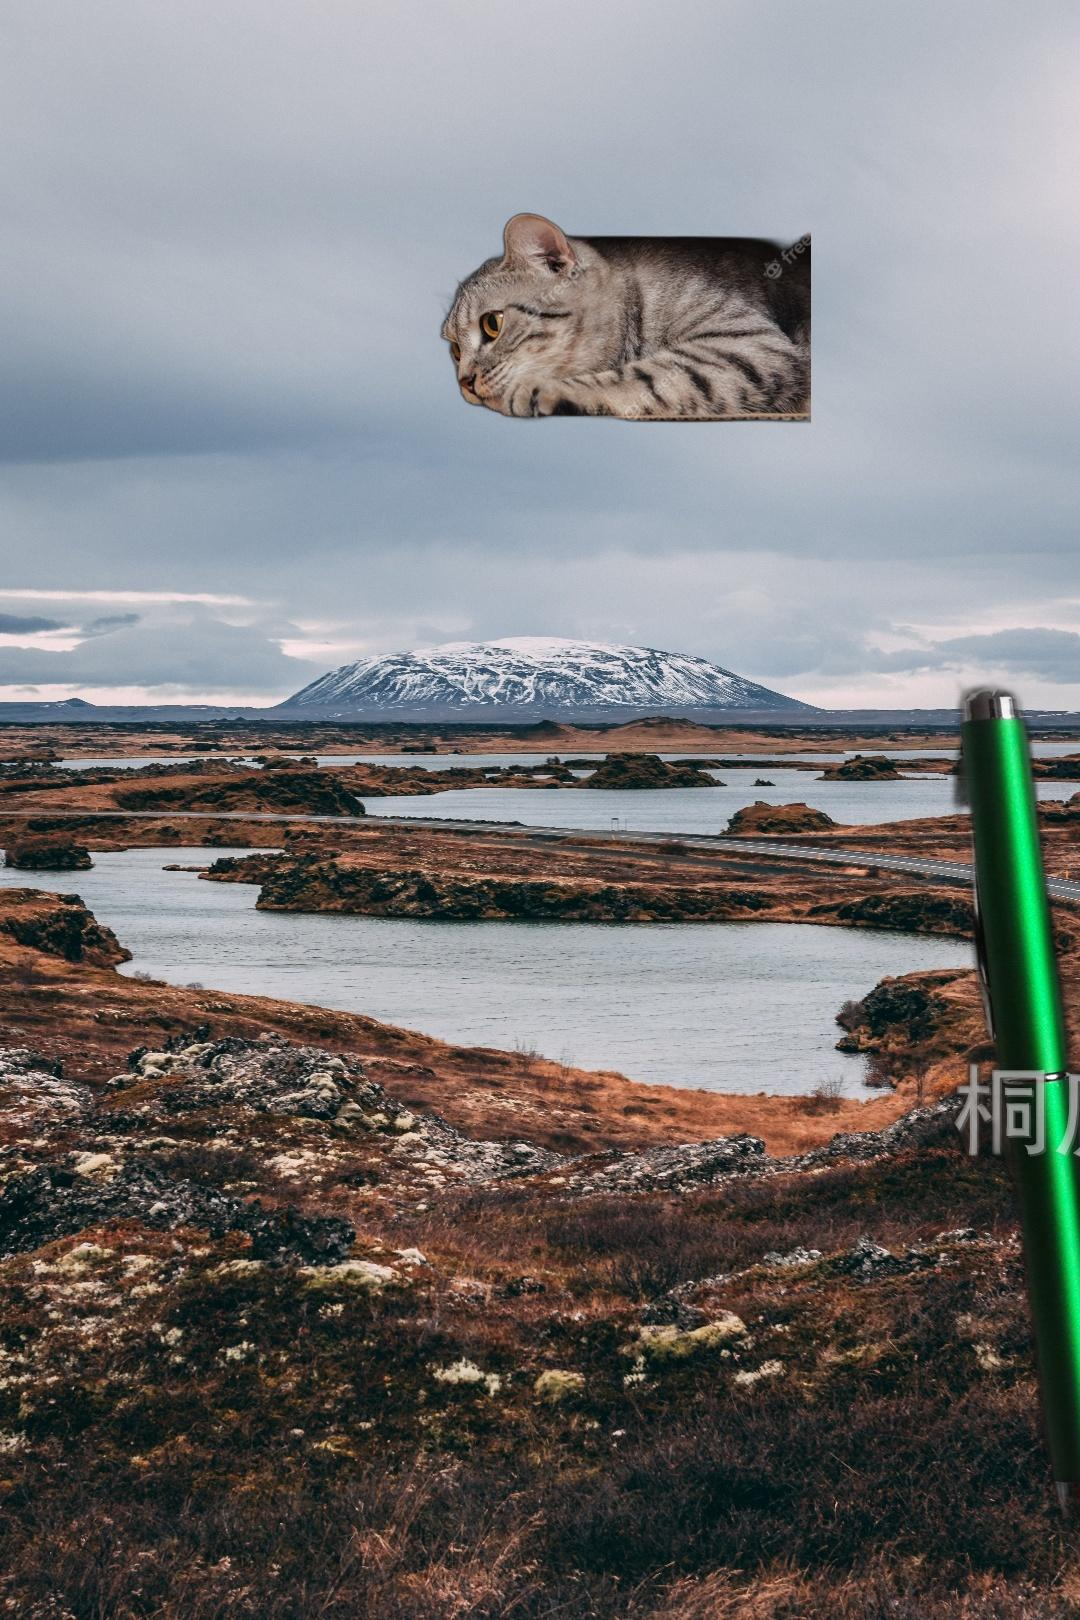penholder: (943, 634, 1080, 1620)
trashbox-cardboard: (430, 210, 811, 425)
